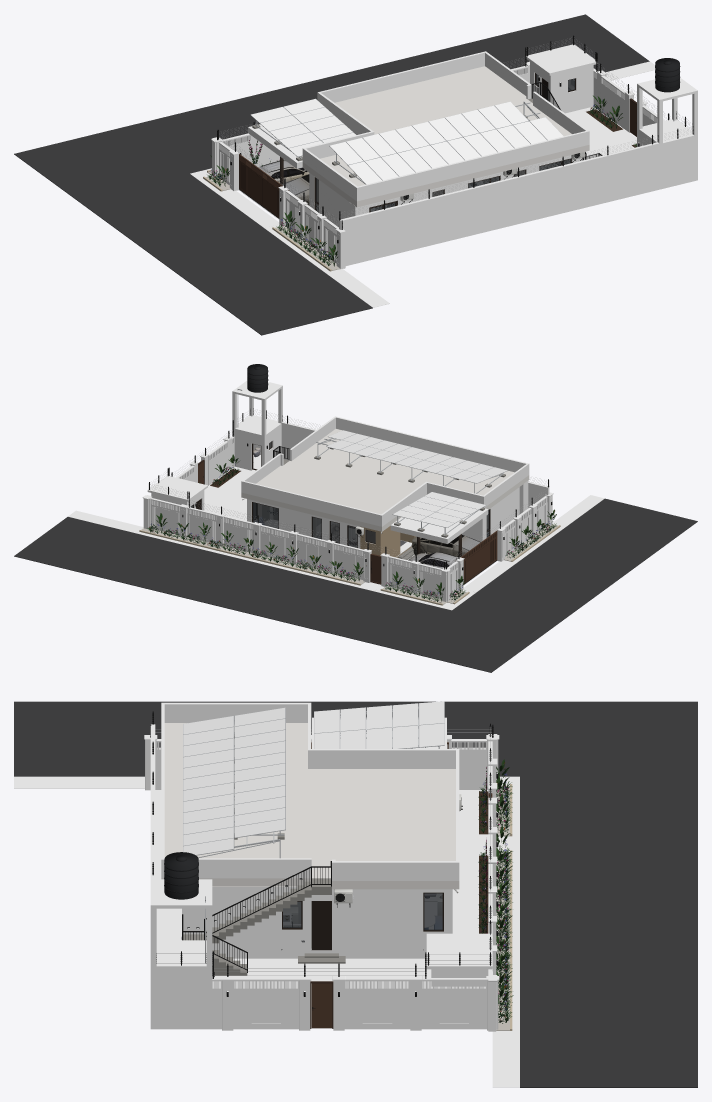
The model's file is dalaba_model.glb.
The picture shows the model from 3 angles, top to bottom: view 1: azimuth 30°, elevation 25°; view 2: azimuth 150°, elevation 25°; view 3: azimuth 270°, elevation 25°; orthographic projection. The views are drawn at different scales.
Parts seen in each view (by area): view 1: LM_EXT, INTERIOR, LM_EXT_CEIL, LMV_PLANTS, LMV_CARS; view 2: INTERIOR, LM_EXT, LM_EXT_CEIL, LMV_PLANTS, LMV_CARS, LM_INT; view 3: INTERIOR, LM_EXT, LM_EXT_CEIL, LMV_PLANTS, LM_INT.
Boxes of the visible parts, x1=… form: LM_EXT: x1=190, y1=35, x2=697, y2=307; INTERIOR: x1=14, y1=14, x2=692, y2=335; LM_EXT_CEIL: x1=239, y1=51, x2=589, y2=218; LMV_PLANTS: x1=207, y1=95, x2=636, y2=266; LMV_CARS: x1=258, y1=160, x2=309, y2=205; INTERIOR: x1=14, y1=370, x2=697, y2=672; LM_EXT: x1=68, y1=364, x2=604, y2=610; LM_EXT_CEIL: x1=241, y1=416, x2=529, y2=584; LMV_PLANTS: x1=147, y1=454, x2=556, y2=601; LMV_CARS: x1=408, y1=535, x2=480, y2=568; LM_INT: x1=191, y1=504, x2=488, y2=546; INTERIOR: x1=14, y1=701, x2=697, y2=1087; LM_EXT: x1=14, y1=701, x2=519, y2=1087; LM_EXT_CEIL: x1=161, y1=702, x2=459, y2=889; LMV_PLANTS: x1=478, y1=759, x2=513, y2=1023; LM_INT: x1=212, y1=886, x2=442, y2=929.
Size of what is drawn, in the model's own units: 40 by 7.79 by 30.
